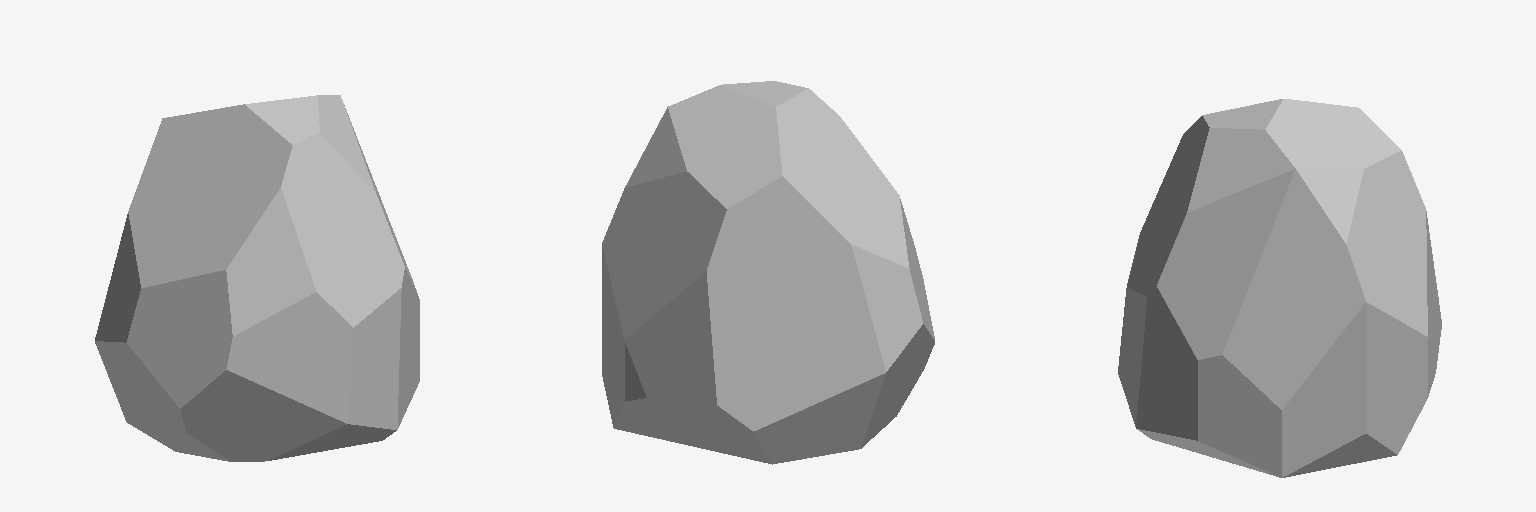
The model's file is Prop_Decorative_Rock_5.obj.
3 views of the same model, side by side, from view 1: azimuth 30°, elevation 25°; view 2: azimuth 150°, elevation 25°; view 3: azimuth 270°, elevation 25° (orthographic).
Visible parts, largest first — view 1: Rock; view 2: Rock; view 3: Rock.
Boxes of the visible parts, x1=… form: Rock: x1=95, y1=95, x2=419, y2=461; Rock: x1=602, y1=81, x2=934, y2=464; Rock: x1=1118, y1=99, x2=1441, y2=477.
Bounding box in the file's own units: 0.9762 × 1 × 0.9624.